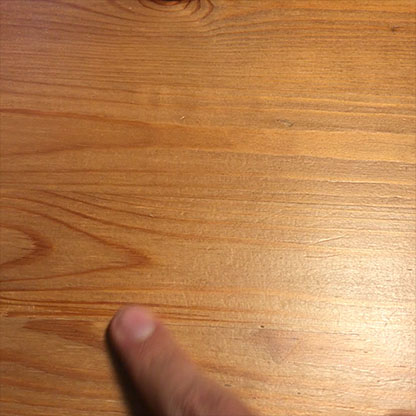fingertip: (106, 298, 166, 350)
